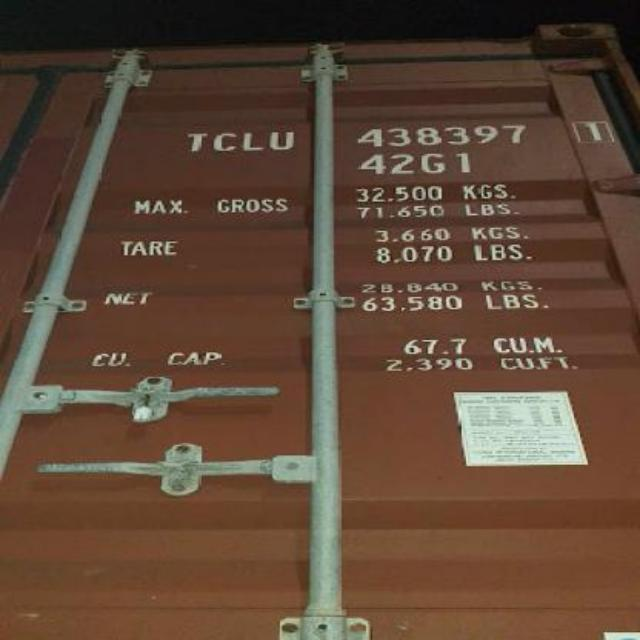1: (576, 120, 620, 144)
3: (442, 124, 476, 148), (382, 124, 416, 146)
4: (356, 125, 386, 151)
7: (496, 120, 534, 150)
8: (414, 124, 442, 146)
9: (466, 121, 499, 147)
C: (210, 128, 238, 158)
L: (235, 126, 268, 156)
T: (178, 126, 212, 156)
U: (266, 126, 298, 150)
